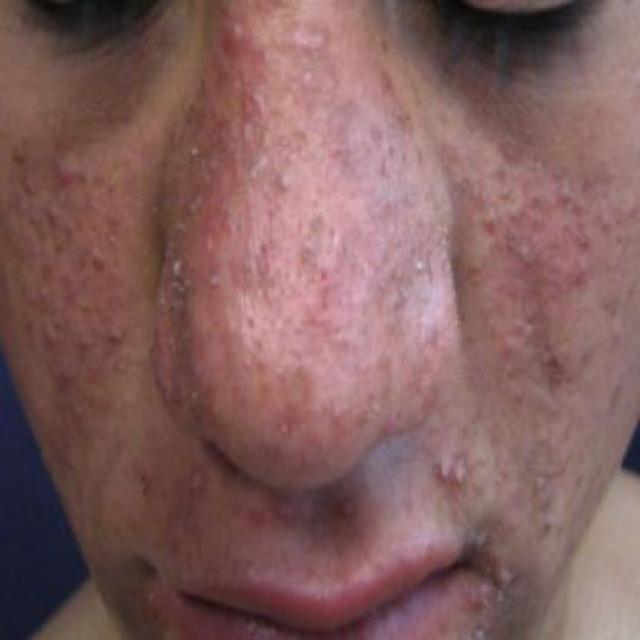pustules: (443, 461, 480, 497), (431, 451, 454, 489)
whiteheads: (539, 320, 563, 351), (272, 173, 296, 204), (479, 210, 503, 234), (494, 179, 518, 202), (63, 216, 80, 239)
